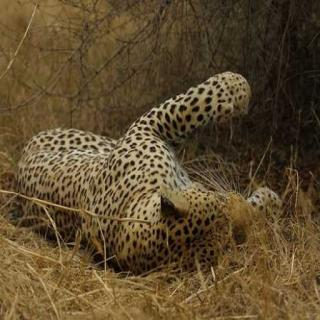Leopard: (33, 92, 309, 289)
